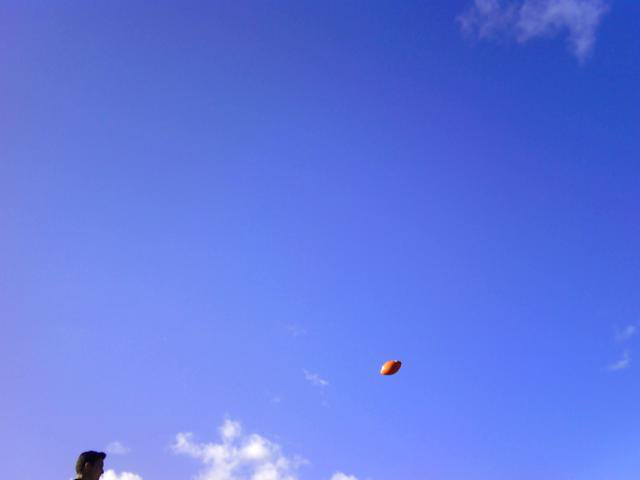football: (373, 358, 403, 378)
